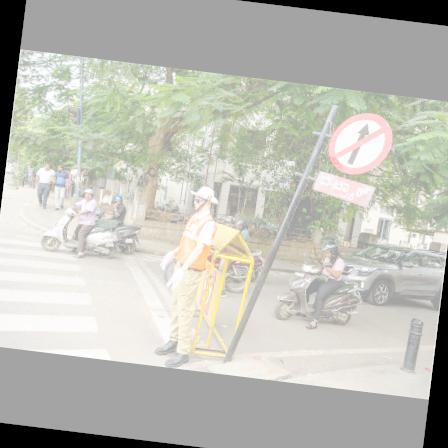Mannequin: (150, 180, 222, 369), (307, 242, 347, 330), (66, 184, 97, 259), (102, 191, 128, 249), (29, 158, 56, 209), (48, 162, 69, 208)
